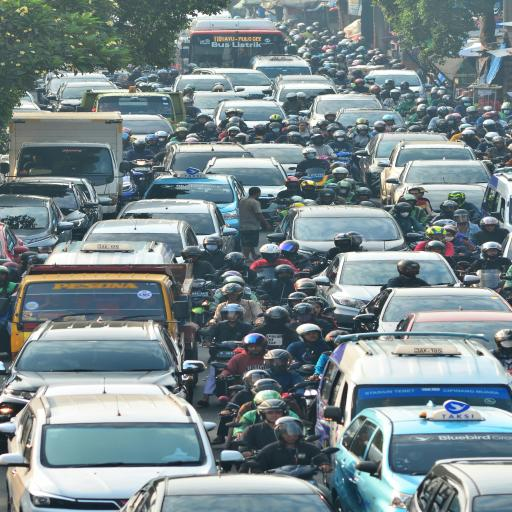bike: (191, 280, 213, 327), (130, 159, 154, 197), (121, 172, 143, 206)
car: (4, 392, 216, 511), (0, 290, 183, 422), (316, 333, 511, 445), (332, 400, 511, 511), (11, 265, 197, 359), (11, 140, 125, 213), (121, 474, 332, 511), (355, 287, 511, 332), (316, 251, 404, 328), (277, 206, 407, 257), (117, 199, 237, 253), (408, 449, 511, 511), (380, 141, 476, 204), (0, 179, 100, 239), (143, 175, 246, 229), (387, 159, 491, 209), (358, 132, 447, 190), (84, 219, 198, 262), (396, 311, 511, 349), (203, 158, 287, 210), (0, 194, 74, 253), (17, 177, 111, 220), (82, 90, 185, 127), (82, 90, 184, 124), (45, 242, 176, 265), (164, 143, 252, 174), (191, 68, 271, 99), (36, 73, 110, 104), (310, 95, 382, 126), (46, 81, 118, 112), (214, 100, 286, 128), (35, 383, 171, 397), (482, 168, 511, 231), (249, 143, 304, 175), (274, 82, 337, 109), (249, 55, 312, 79), (372, 70, 427, 97), (193, 92, 250, 117), (336, 108, 404, 128), (269, 75, 336, 95), (123, 114, 173, 139), (0, 223, 30, 264), (173, 75, 244, 91), (14, 100, 43, 113), (502, 233, 511, 258), (21, 91, 34, 102)
